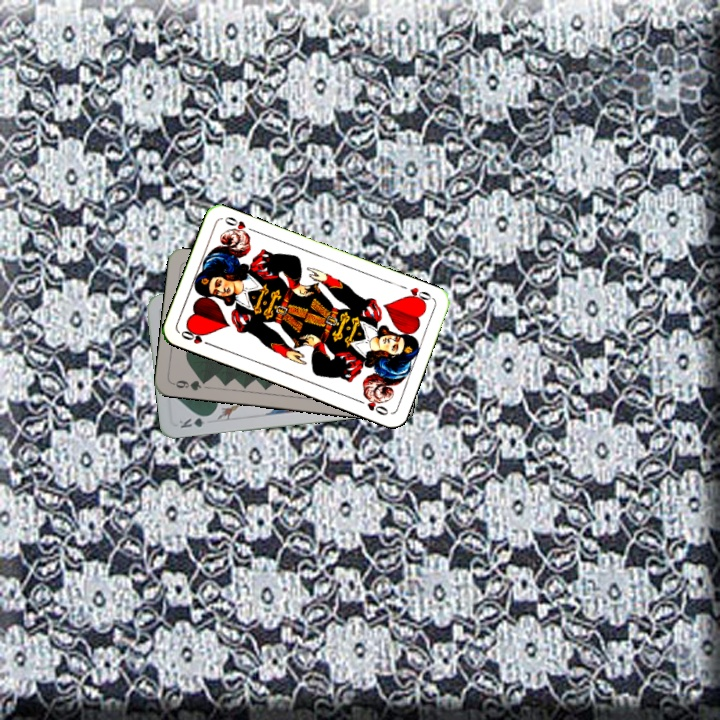G9: (169, 375, 210, 393)
GK: (175, 411, 214, 431)
HO: (177, 324, 215, 348), (401, 283, 435, 307)
